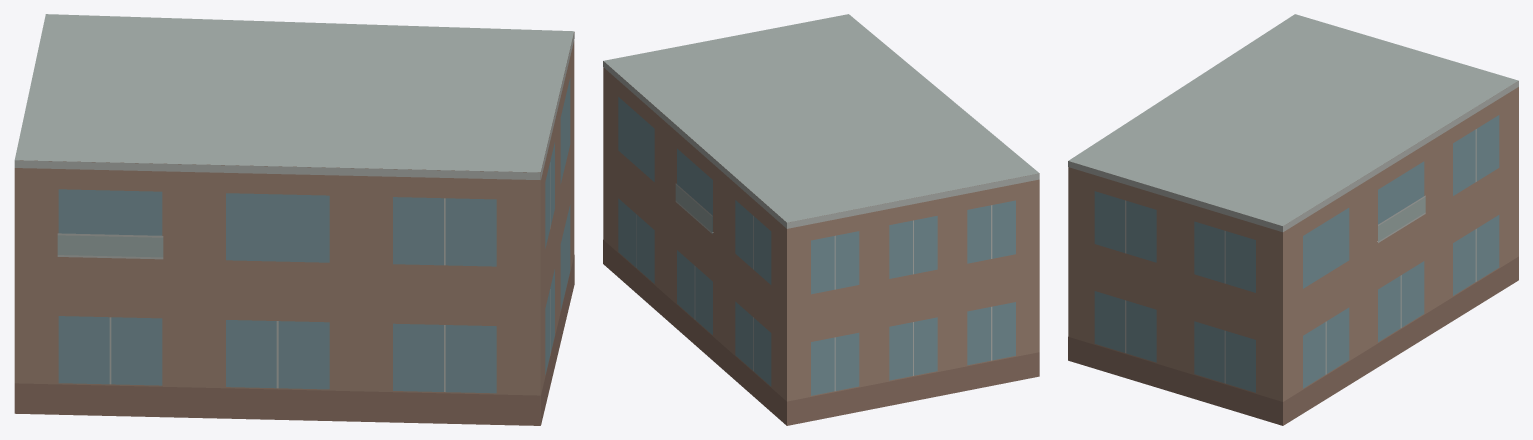
The model's file is survey-upis-32850676.glb.
3 views of the same model, side by side, from view 1: azimuth 30°, elevation 25°; view 2: azimuth 150°, elevation 25°; view 3: azimuth 270°, elevation 25° (orthographic). The views are drawn at different scales.
Visible parts, largest first — view 1: survey-upis-32850676.tmp; view 2: survey-upis-32850676.tmp; view 3: survey-upis-32850676.tmp.
Boxes of the visible parts, x1=… form: survey-upis-32850676.tmp: x1=14, y1=14, x2=574, y2=425; survey-upis-32850676.tmp: x1=603, y1=14, x2=1039, y2=425; survey-upis-32850676.tmp: x1=1068, y1=14, x2=1518, y2=425.
Bounding box in the file's own units: 18.25 × 8 × 16.38.
